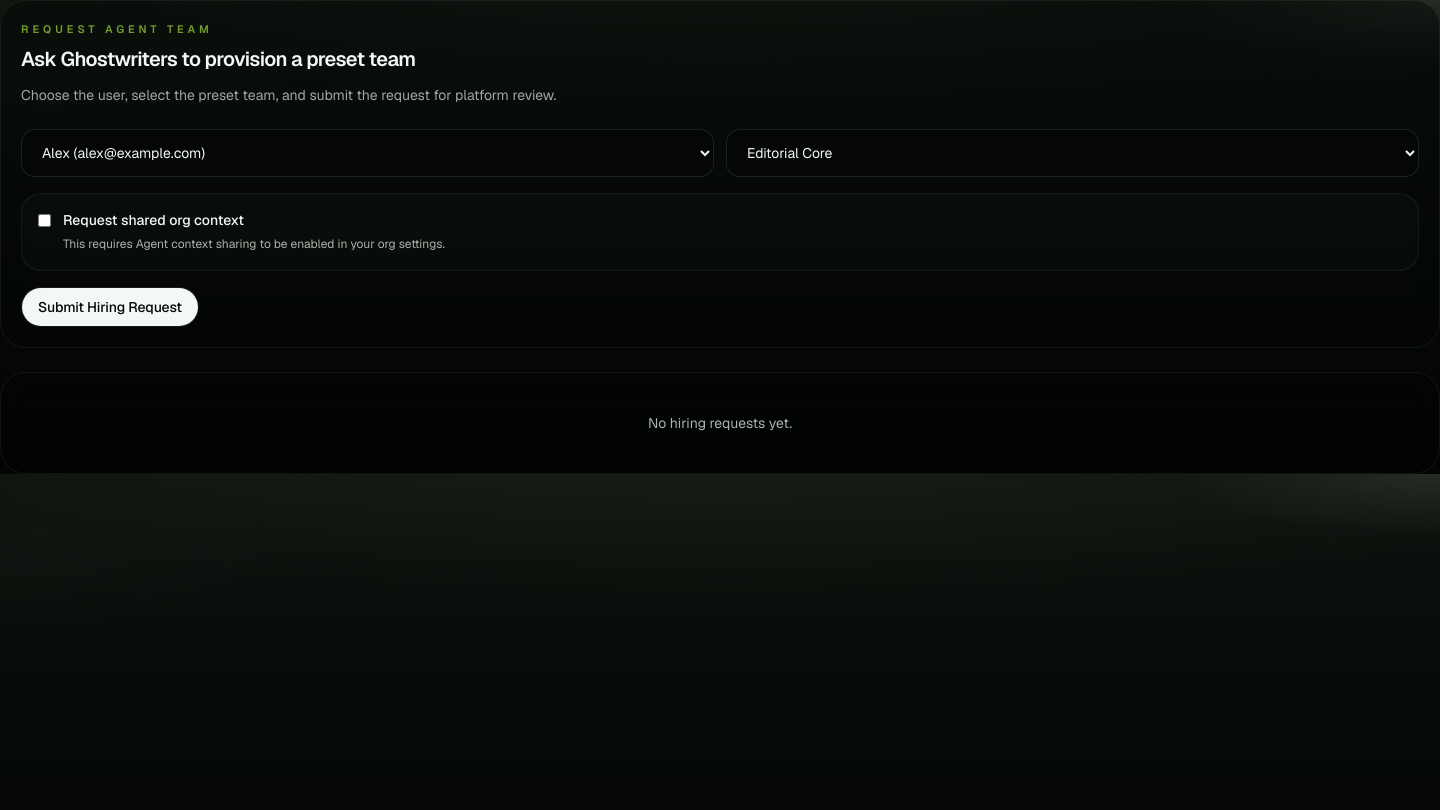
Test case: OrgAdminAgentHiringRequestsClient › blocks shared-context requests when org sharing is off
The width and height of the screenshot is (1440, 810).
Step 1. Click the checkbox → click(44, 221), box [38, 214, 51, 227]
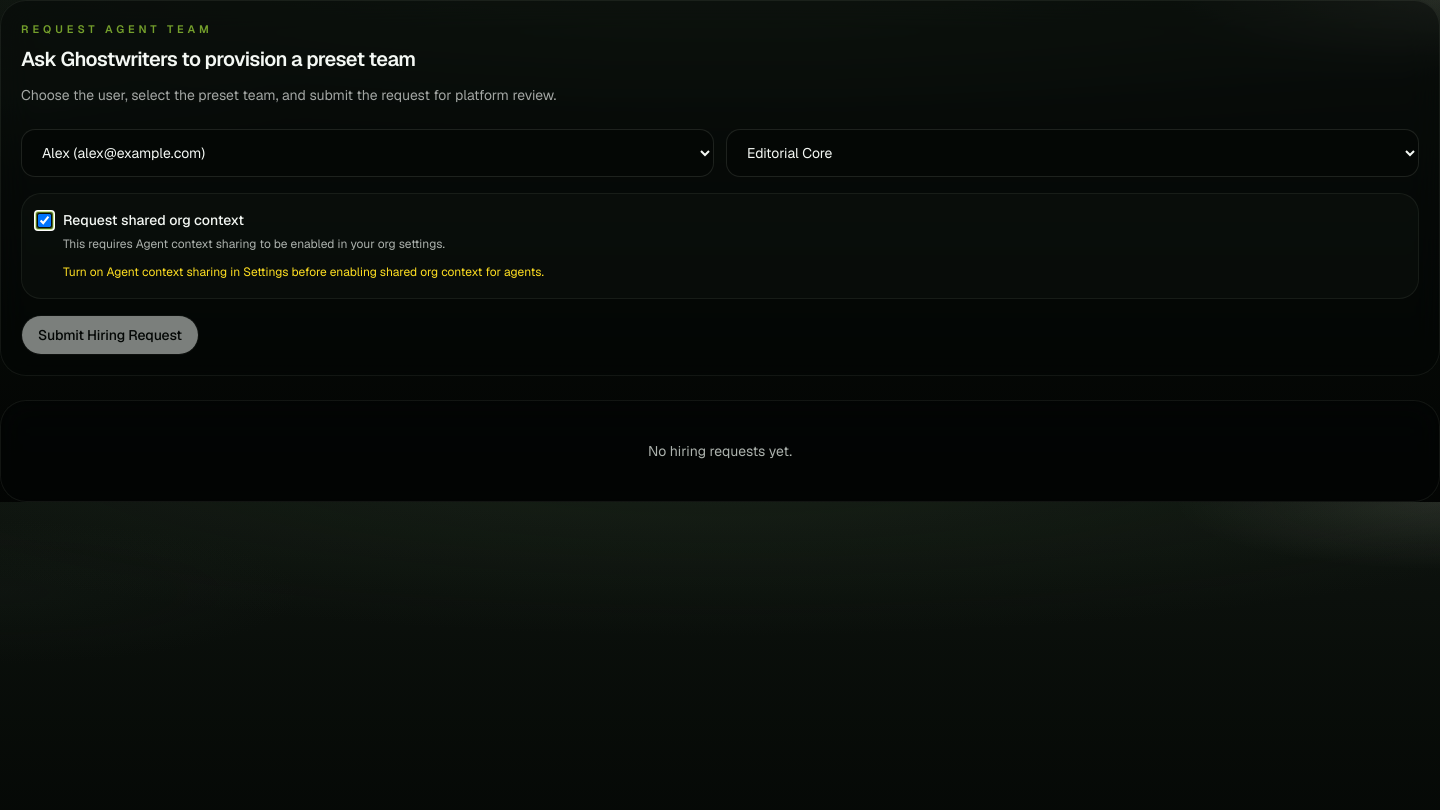
Result: the text "Turn on Agent context sharing in Settings" is shown at [63, 264, 544, 280]
Result: the button "Submit Hiring Request" is disabled at [21, 315, 199, 355]
